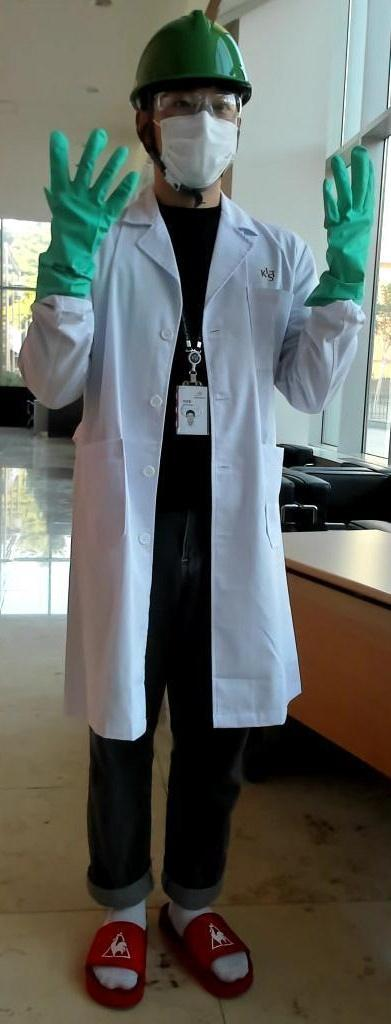lab_coat: (91, 240, 308, 739)
